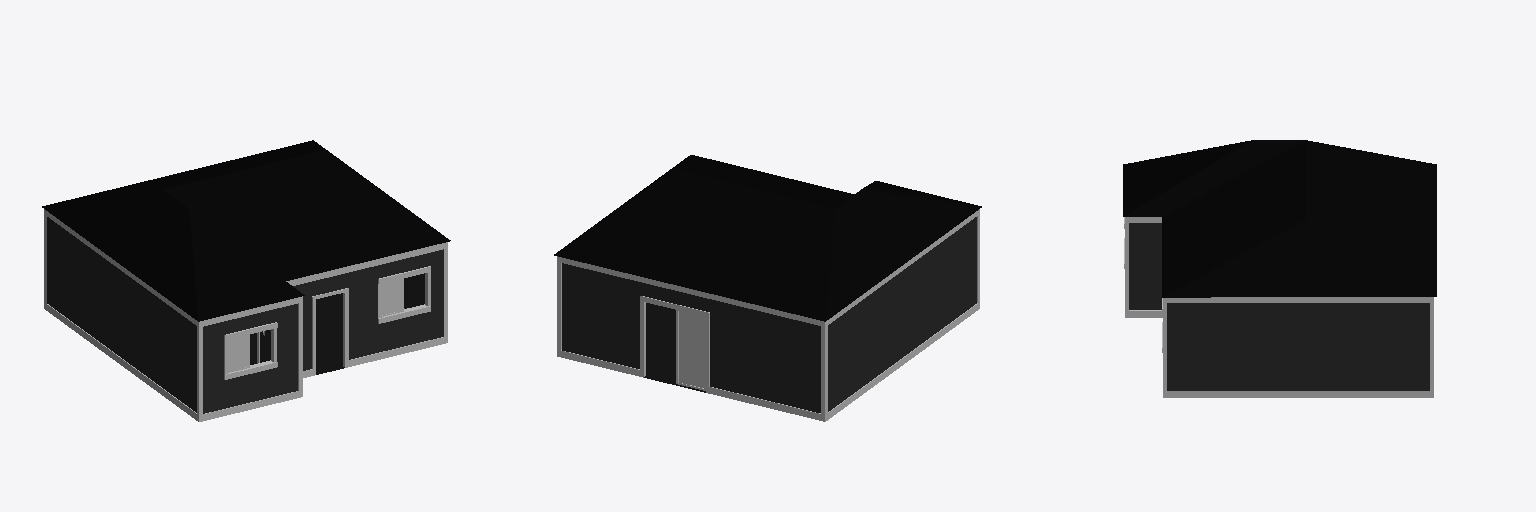
File: House.obj
3 views of the same model, side by side, from view 1: azimuth 30°, elevation 25°; view 2: azimuth 150°, elevation 25°; view 3: azimuth 270°, elevation 25° (orthographic).
Parts seen in each view (by area): view 1: Vert; view 2: Vert; view 3: Vert.
Part boxes in pixels (bbox=[...]): Vert: bbox=[42, 140, 450, 421]; Vert: bbox=[554, 155, 981, 421]; Vert: bbox=[1123, 140, 1436, 397].
Size of the model in its own units: 16.55 by 8.9 by 16.55.